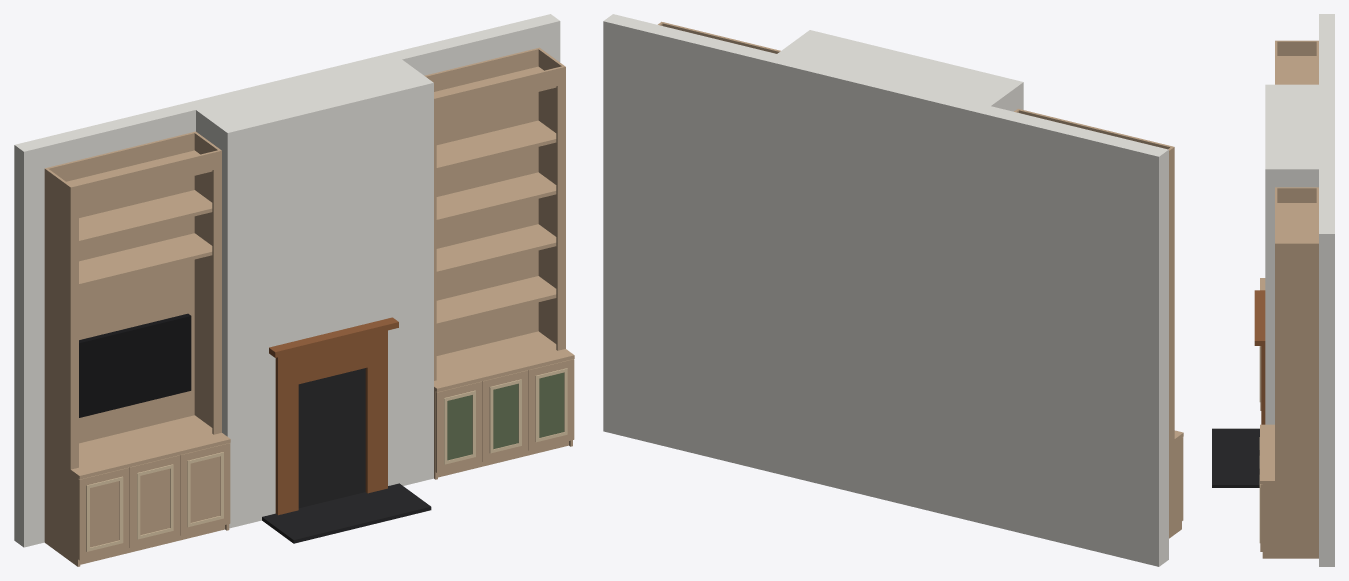
Rendered from tv-unit-and-bookcase-haringey.glb.
The picture shows the model from 3 angles, left to right: view 1: azimuth 30°, elevation 25°; view 2: azimuth 150°, elevation 25°; view 3: azimuth 270°, elevation 25°; orthographic projection. The views are drawn at different scales.
Visible parts, largest first — view 1: Room: Chimney breast, Room: Back wall, TV unit: Back panel, Bookcase: Back panel, Room: Fire surround, Room: Television, Room: Fireplace insert, TV unit: Side, left, TV unit: Base: top, Room: Hearth, Bookcase: Base: top, TV unit: Side, right (+33 smaller); view 2: Room: Back wall, Room: Chimney breast, TV unit: Side, left, TV unit: Base: side, left; view 3: Bookcase: Side, right, Room: Back wall, Room: Chimney breast, Bookcase: Base: side, right, Room: Hearth, Bookcase: Top, TV unit: Top, Bookcase: Back panel, Bookcase: Base: top, Bookcase: Face frame: stile, right, Room: Mantel shelf, TV unit: Side, left (+3 smaller).
Boxes of the visible parts, <box> form: Room: Chimney breast: <box>196,59,433,528</box>; Room: Back wall: <box>14,14,560,547</box>; TV unit: Back panel: <box>44,131,196,543</box>; Bookcase: Back panel: <box>424,47,540,355</box>; Room: Fire surround: <box>275,330,387,515</box>; Room: Television: <box>79,313,191,417</box>; Room: Fireplace insert: <box>298,368,365,508</box>; TV unit: Side, left: <box>46,169,71,467</box>; TV unit: Base: top: <box>46,415,230,479</box>; Room: Hearth: <box>262,483,431,543</box>; Bookcase: Base: top: <box>434,331,574,392</box>; TV unit: Side, right: <box>194,132,219,427</box>; Room: Back wall: <box>603,14,1168,566</box>; Room: Chimney breast: <box>777,30,1023,111</box>; TV unit: Side, left: <box>1168,147,1173,442</box>; TV unit: Base: side, left: <box>1169,438,1181,538</box>; Bookcase: Side, right: <box>1277,242,1316,480</box>; Room: Back wall: <box>1319,14,1334,566</box>; Room: Chimney breast: <box>1265,84,1318,424</box>; Bookcase: Base: side, right: <box>1262,484,1316,558</box>; Room: Hearth: <box>1212,428,1259,487</box>; Bookcase: Top: <box>1277,203,1316,242</box>; TV unit: Top: <box>1277,56,1316,84</box>; Bookcase: Back panel: <box>1316,187,1318,558</box>; Bookcase: Base: top: <box>1260,424,1316,483</box>; Bookcase: Face frame: stile, right: <box>1275,240,1277,480</box>; Room: Mantel shelf: <box>1254,290,1265,345</box>; TV unit: Side, left: <box>1277,40,1316,55</box>.
Size of the model in its own units: 3.9 by 2.75 by 0.92.
